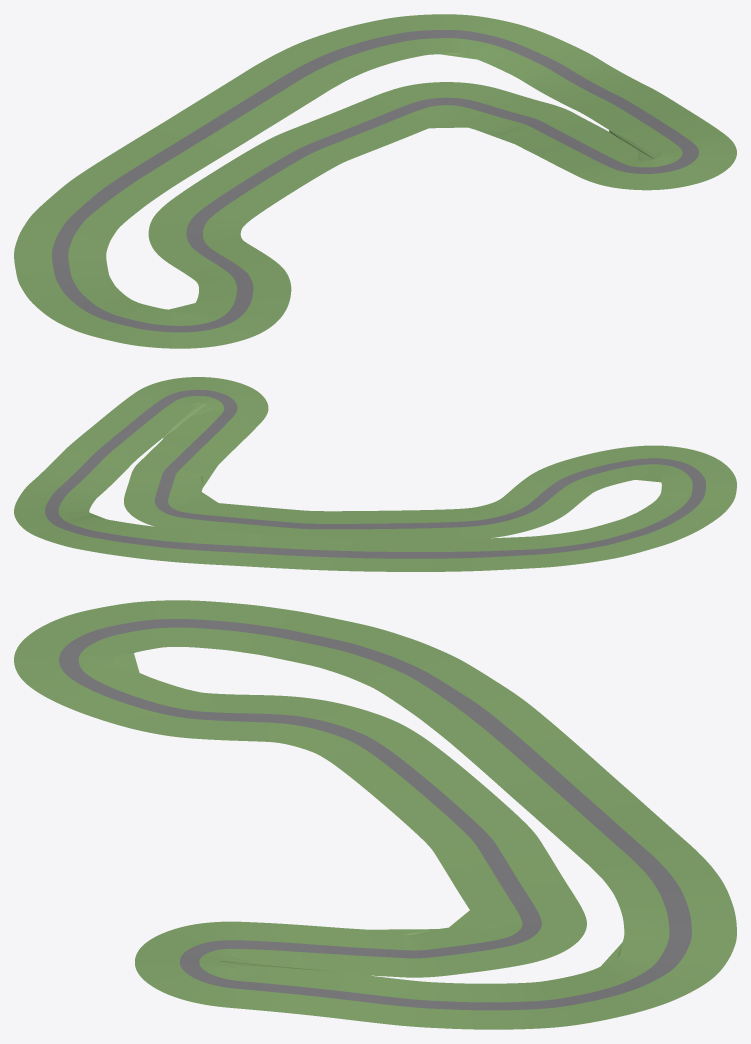
File: road_mesh.glb
3 views of the same model, one above another, from view 1: azimuth 30°, elevation 25°; view 2: azimuth 150°, elevation 25°; view 3: azimuth 270°, elevation 25° (orthographic). The views are drawn at different scales.
Parts seen in each view (by area): view 1: road_10, road_01, road_00, road_04, road_09, road_08, road_07, road_05, road_06, road_02, road_03; view 2: road_02, road_03, road_07, road_10, road_08, road_06, road_09, road_00, road_04, road_01, road_05; view 3: road_00, road_05, road_07, road_01, road_09, road_06, road_02, road_10, road_04, road_08, road_03.
Boxes of the visible parts, left/top/right/bottom form: road_10: left=121, top=70, right=325, bottom=170; road_01: left=440, top=15, right=654, bottom=110; road_00: left=248, top=14, right=462, bottom=92; road_04: left=318, top=82, right=553, bottom=146; road_09: left=19, top=148, right=199, bottom=242; road_08: left=14, top=235, right=148, bottom=337; road_07: left=97, top=278, right=291, bottom=348; road_05: left=181, top=119, right=382, bottom=212; road_06: left=148, top=193, right=288, bottom=284; road_02: left=577, top=90, right=736, bottom=186; road_03: left=476, top=105, right=685, bottom=190; road_02: left=67, top=377, right=237, bottom=463; road_03: left=132, top=382, right=268, bottom=487; road_07: left=552, top=445, right=736, bottom=492; road_10: left=217, top=532, right=402, bottom=571; road_08: left=566, top=491, right=736, bottom=562; road_06: left=440, top=465, right=597, bottom=538; road_09: left=399, top=532, right=590, bottom=571; road_00: left=27, top=516, right=223, bottom=564; road_04: left=124, top=473, right=270, bottom=533; road_01: left=14, top=448, right=131, bottom=530; road_05: left=254, top=507, right=440, bottom=539; road_00: left=586, top=842, right=736, bottom=980; road_05: left=346, top=750, right=554, bottom=876; road_07: left=14, top=606, right=189, bottom=732; road_01: left=420, top=943, right=709, bottom=1029; road_09: left=343, top=639, right=573, bottom=762; road_06: left=151, top=690, right=439, bottom=773; road_02: left=135, top=957, right=422, bottom=1027; road_10: left=474, top=742, right=687, bottom=862; road_04: left=413, top=864, right=586, bottom=975; road_08: left=110, top=600, right=413, bottom=675; road_03: left=135, top=921, right=448, bottom=977.
Size of the model in its own units: 643 by 19.97 by 481.
